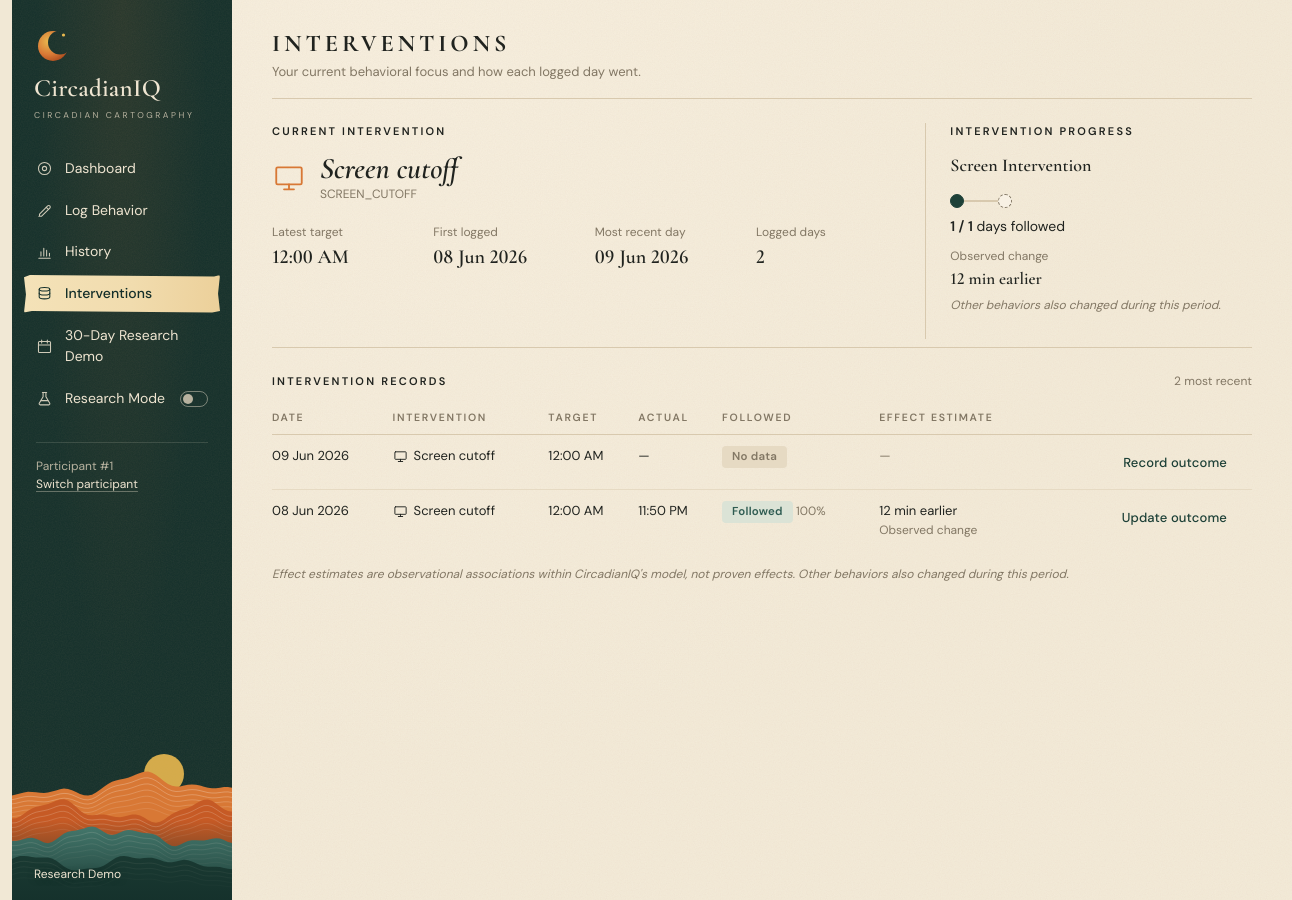
Test case: Interventions › submits an outcome through the existing endpoint with its exact payload, then refreshes
Expected: the heading "Screen cutoff" is shown, [320,152,458,185]
Expected: the text "12 min earlier" is shown, [950,268,1042,289]
Click the button "Record outcome": (1175, 462) [1108,446,1242,478]
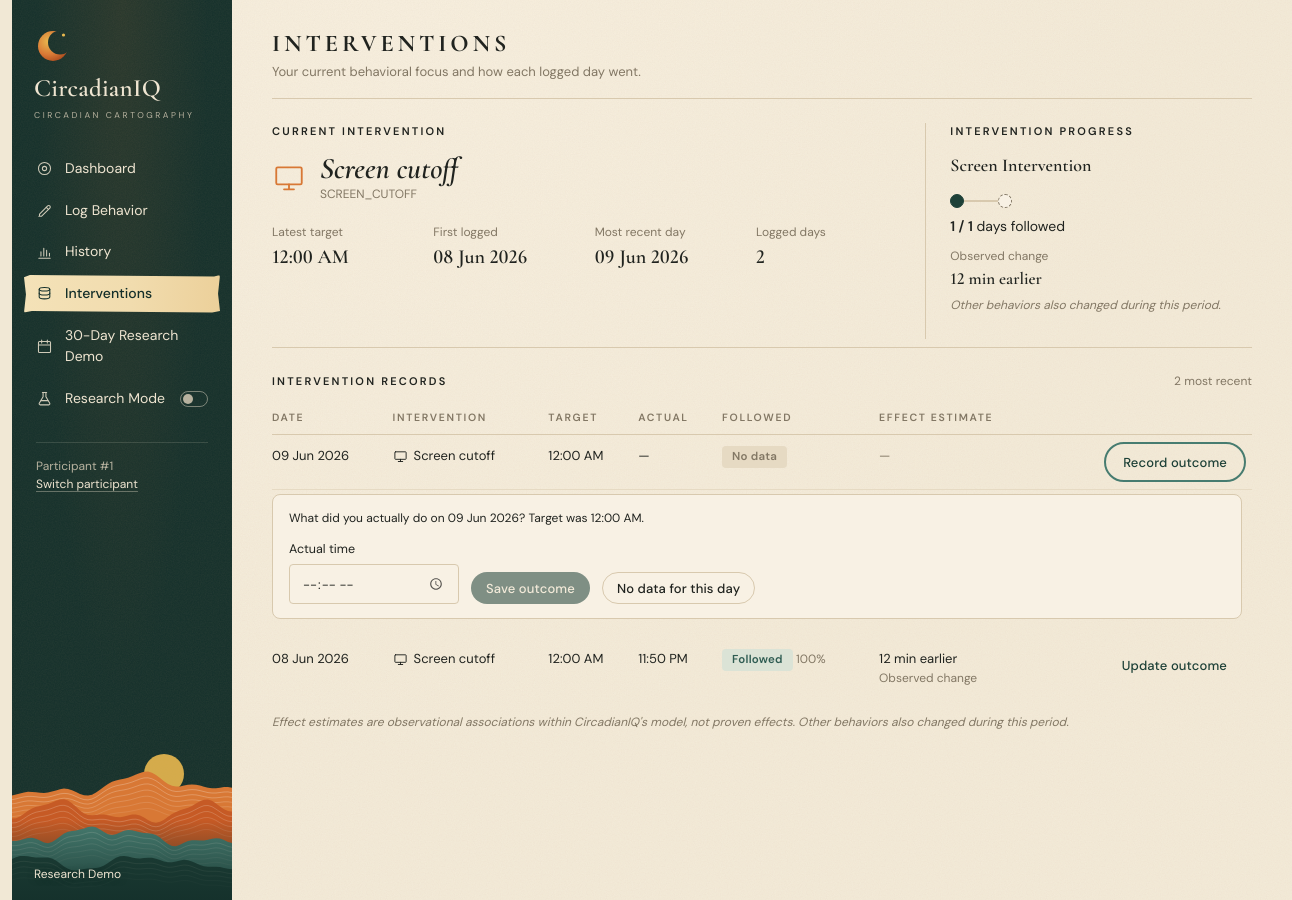
In the time field labelled "Actual time": (374, 584) [289,564,459,604], type "23:45"
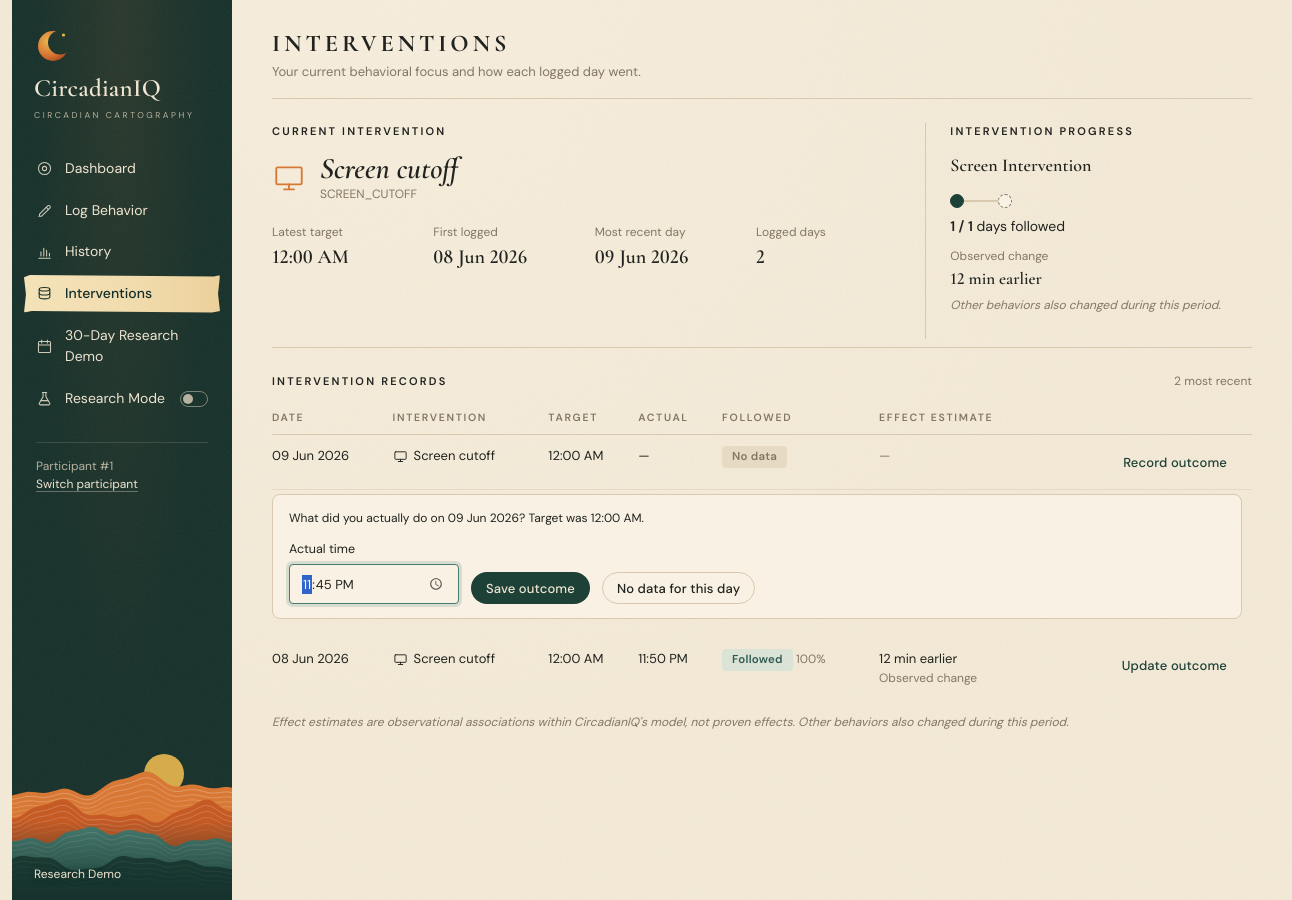
Click the button "Save outcome": (530, 588) [471,572,590,604]
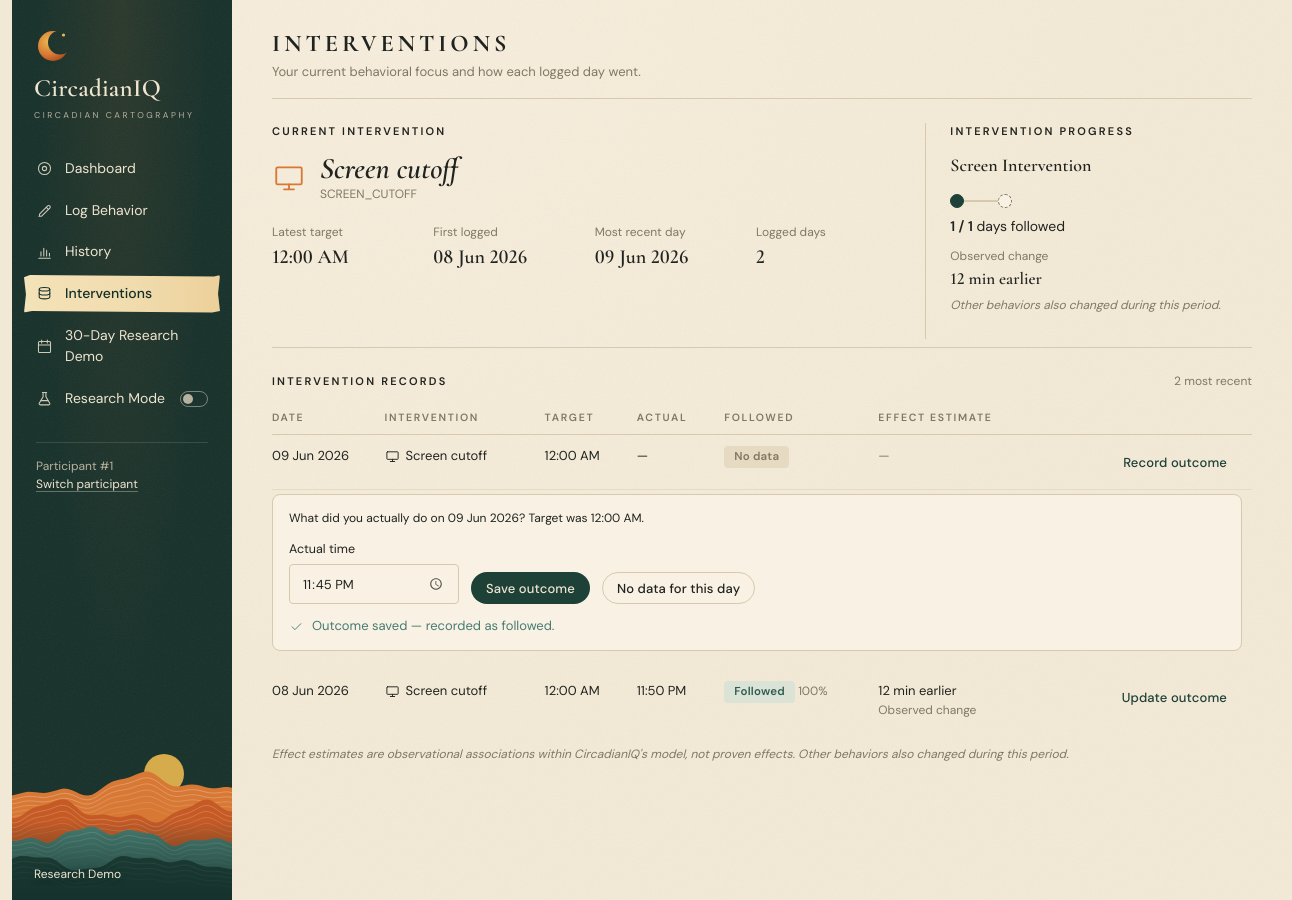
Now the text "Outcome saved — recorded as followed." is shown, box [289,617,554,634]
